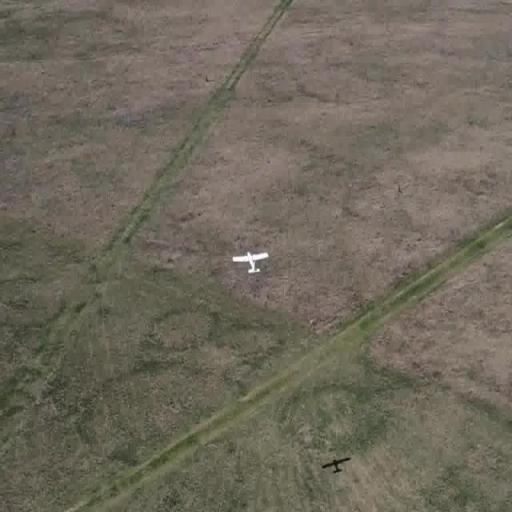uav: (231, 246, 273, 279)
